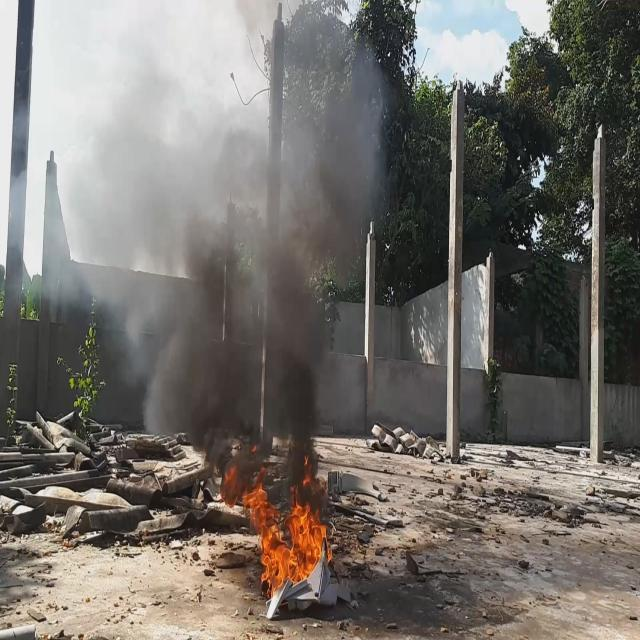Fire: (242, 472, 334, 584)
Smoke: (63, 0, 390, 503)
